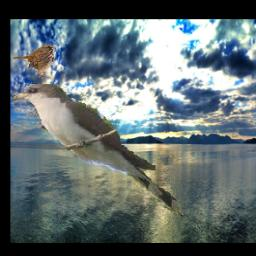Cuckoo: (11, 83, 189, 218)
Sparrow: (13, 44, 57, 81)
